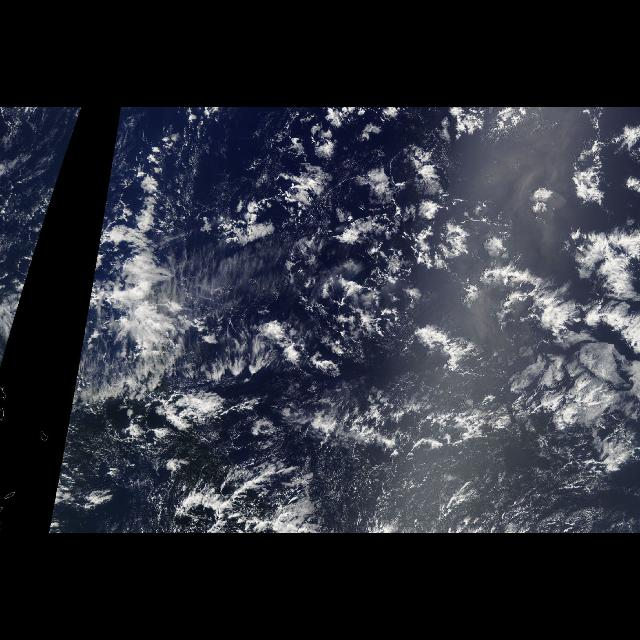Flower: (225, 112, 637, 444)
